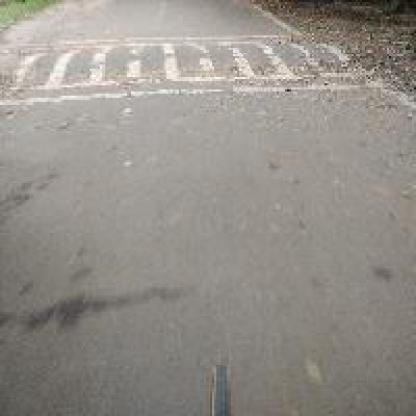Speed Bump: (4, 33, 368, 106)
